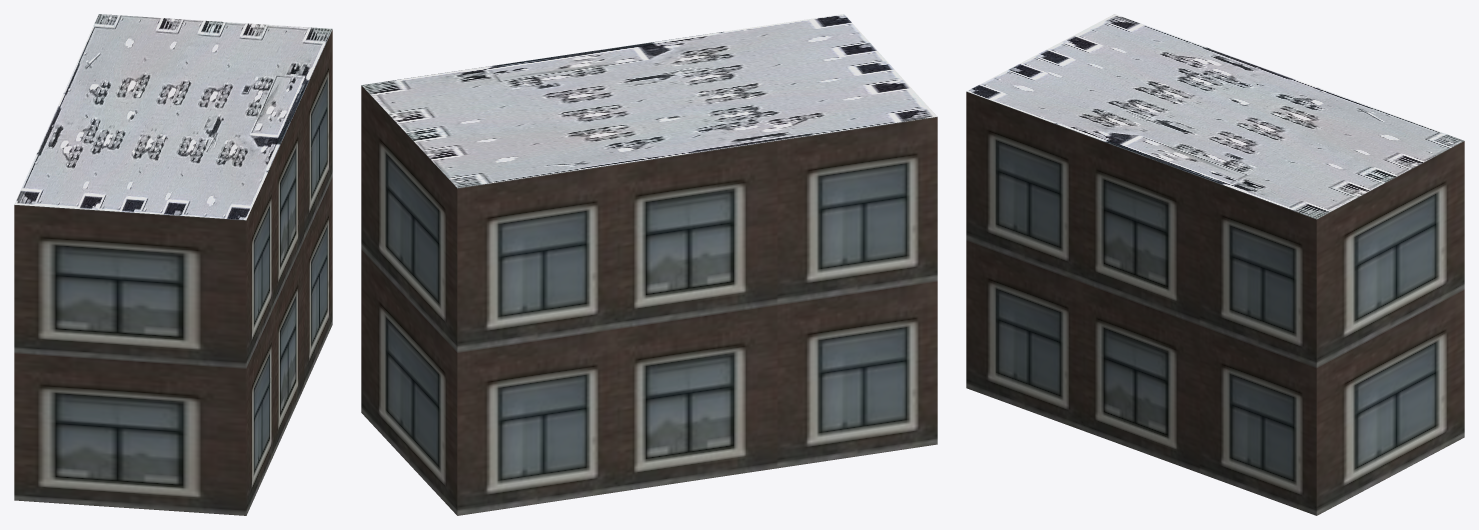
File: ResTex__1171.fbx
3 renders of one model, left to right at view 1: azimuth 30°, elevation 25°; view 2: azimuth 150°, elevation 25°; view 3: azimuth 270°, elevation 25°, orthographic. The views are drawn at different scales.
Parts seen in each view (by area): view 1: CityEngineMaterial_16_m, CityEngineMaterial_15_m; view 2: CityEngineMaterial_16_m, CityEngineMaterial_15_m; view 3: CityEngineMaterial_16_m, CityEngineMaterial_15_m.
Part boxes in pixels (<box>): CityEngineMaterial_16_m: <box>14,29,332,515</box>; CityEngineMaterial_15_m: <box>14,14,332,220</box>; CityEngineMaterial_16_m: <box>361,85,937,515</box>; CityEngineMaterial_15_m: <box>361,14,937,188</box>; CityEngineMaterial_16_m: <box>966,91,1464,515</box>; CityEngineMaterial_15_m: <box>966,14,1464,219</box>.
Size of the model in its own units: 8.9 by 6 by 9.13.
Materials: 2 (2 with a texture image).
